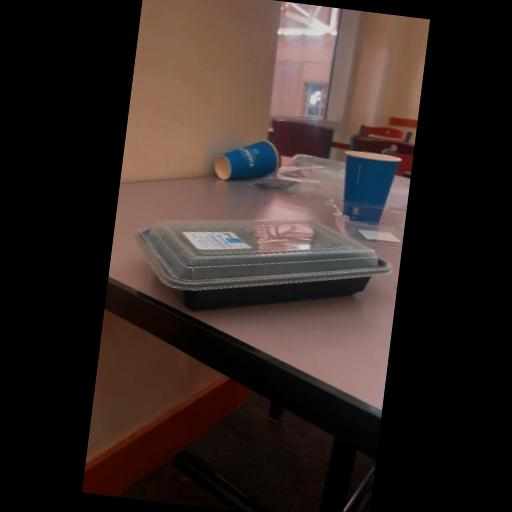lp_paper_cup: (338, 146, 399, 224), (211, 134, 284, 190)
rigid_plastic_container: (126, 194, 400, 334)
